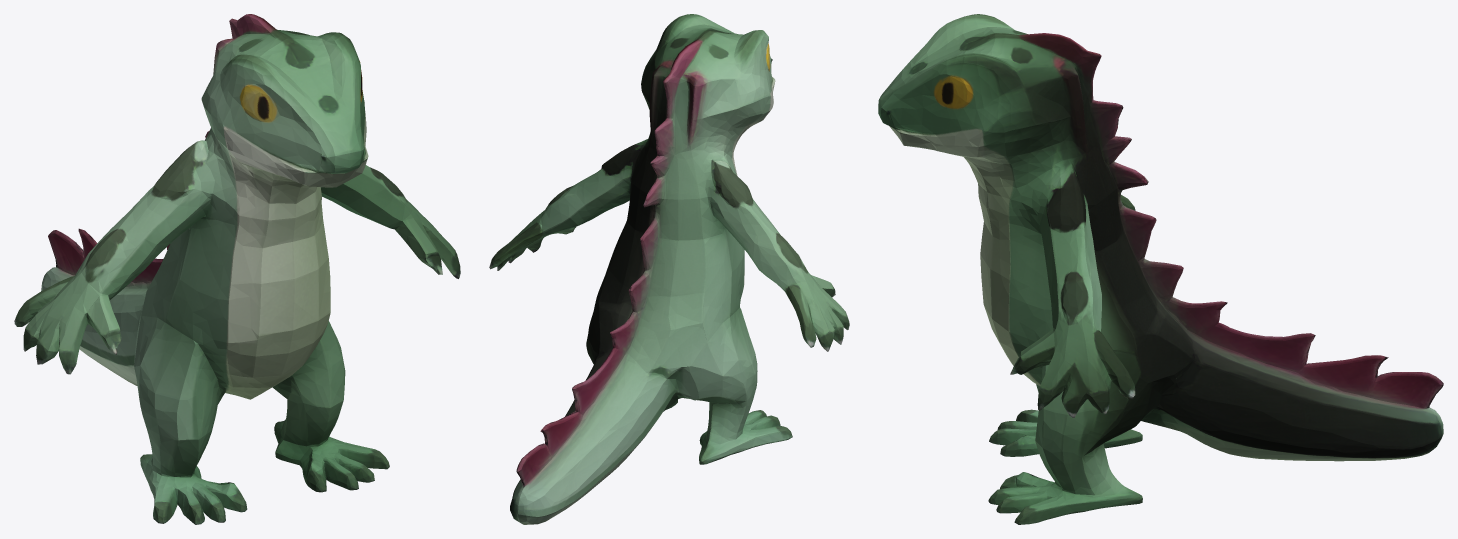
Rendered from lizard.glb.
3 views of the same model, side by side, from view 1: azimuth 30°, elevation 25°; view 2: azimuth 150°, elevation 25°; view 3: azimuth 270°, elevation 25° (orthographic). The views are drawn at different scales.
Visible parts, largest first — view 1: world; view 2: world; view 3: world.
Part boxes in pixels (<box>): world: <box>14,14,460,524</box>; world: <box>489,14,849,524</box>; world: <box>878,14,1443,524</box>.
Bounding box in the file's own units: 0.7937 × 0.8551 × 0.9981.
1 material, 1 textured.
